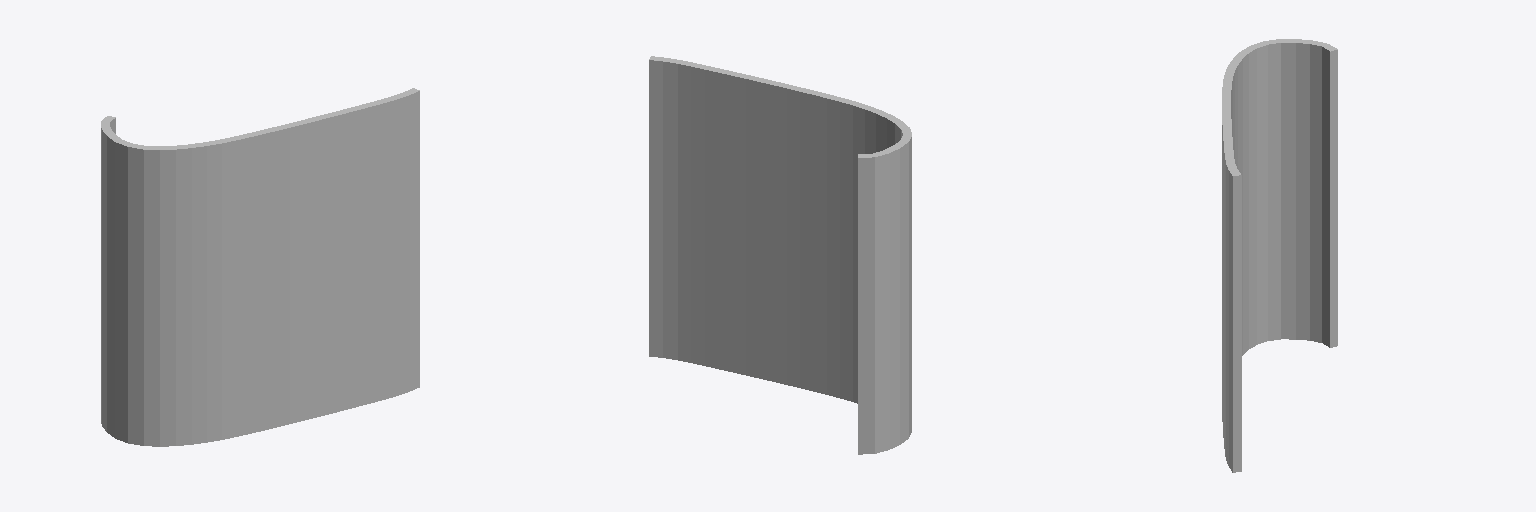
File: EdgeFold1.obj
3 renders of one model, left to right at view 1: azimuth 30°, elevation 25°; view 2: azimuth 150°, elevation 25°; view 3: azimuth 270°, elevation 25°, orthographic.
Parts seen in each view (by area): view 1: Cube_Cube.001; view 2: Cube_Cube.001; view 3: Cube_Cube.001.
Part boxes in pixels (left/top/right/bottom): Cube_Cube.001: left=101, top=88, right=419, bottom=446; Cube_Cube.001: left=649, top=56, right=911, bottom=454; Cube_Cube.001: left=1222, top=39, right=1337, bottom=472.
Bounding box in the file's own units: 4.72 × 4.75 × 1.69.